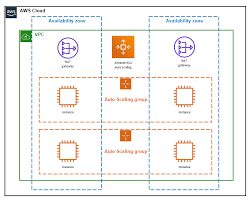auto scaling: (112, 37, 134, 58), (120, 78, 131, 90), (120, 129, 131, 141)
ec2: (172, 138, 197, 163), (56, 138, 80, 164), (173, 83, 197, 108), (56, 84, 80, 108)
vpc: (20, 30, 32, 42)
